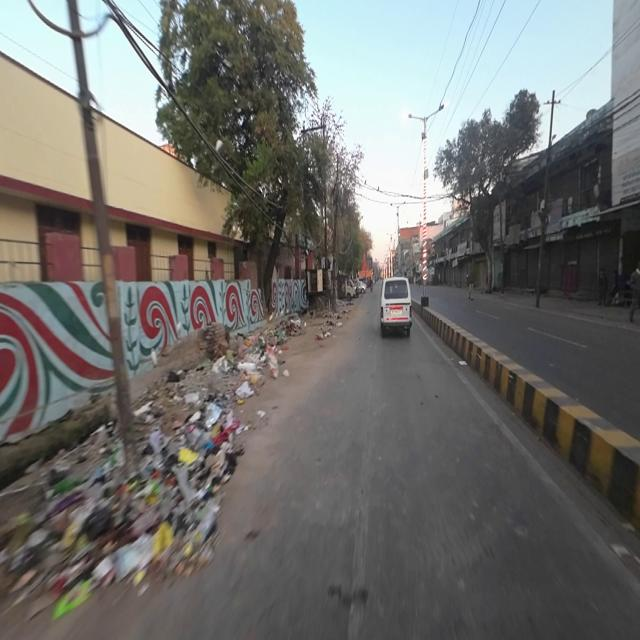Garbage: (48, 389, 222, 590), (221, 336, 285, 392)
